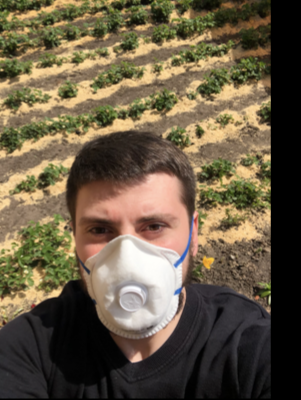with_mask: (75, 192, 184, 338)
